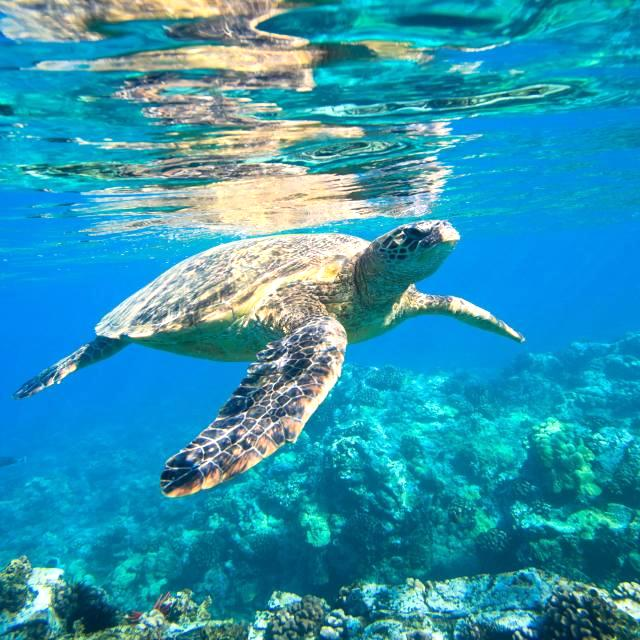Sea turtle: (11, 221, 512, 502)
